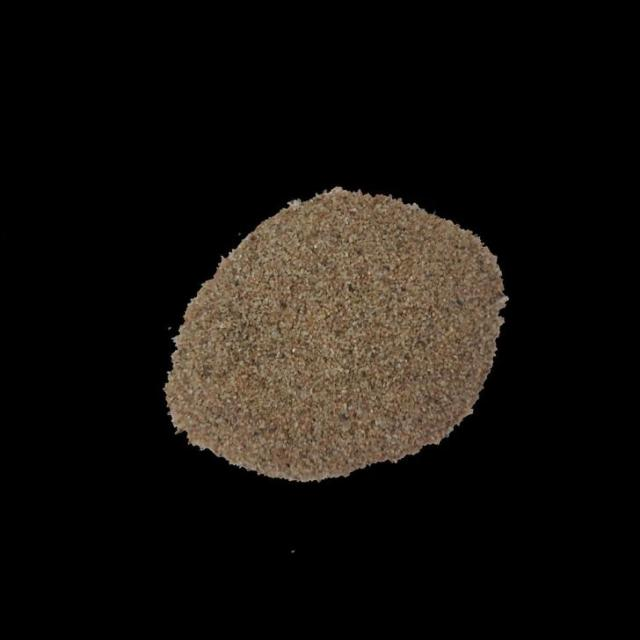Black Soil: (255, 264, 440, 406)
